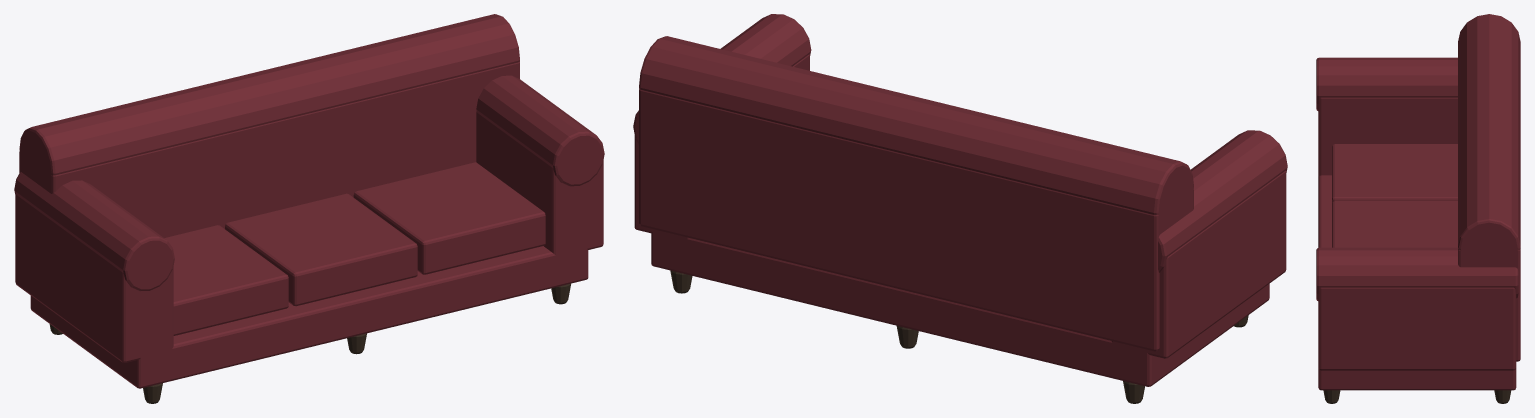
The model's file is SM_Furniture_Sofa_01.glb.
3 renders of one model, left to right at view 1: azimuth 30°, elevation 25°; view 2: azimuth 150°, elevation 25°; view 3: azimuth 270°, elevation 25°, orthographic. The views are drawn at different scales.
Visible parts, largest first — view 1: SM_Furniture_Sofa_01; view 2: SM_Furniture_Sofa_01; view 3: SM_Furniture_Sofa_01.
Part boxes in pixels (x1,y1,x2,y2): SM_Furniture_Sofa_01: (14, 14, 604, 403); SM_Furniture_Sofa_01: (633, 14, 1287, 403); SM_Furniture_Sofa_01: (1316, 14, 1520, 403).
Bounding box in the file's own units: 2.24 × 0.9605 × 0.91.
